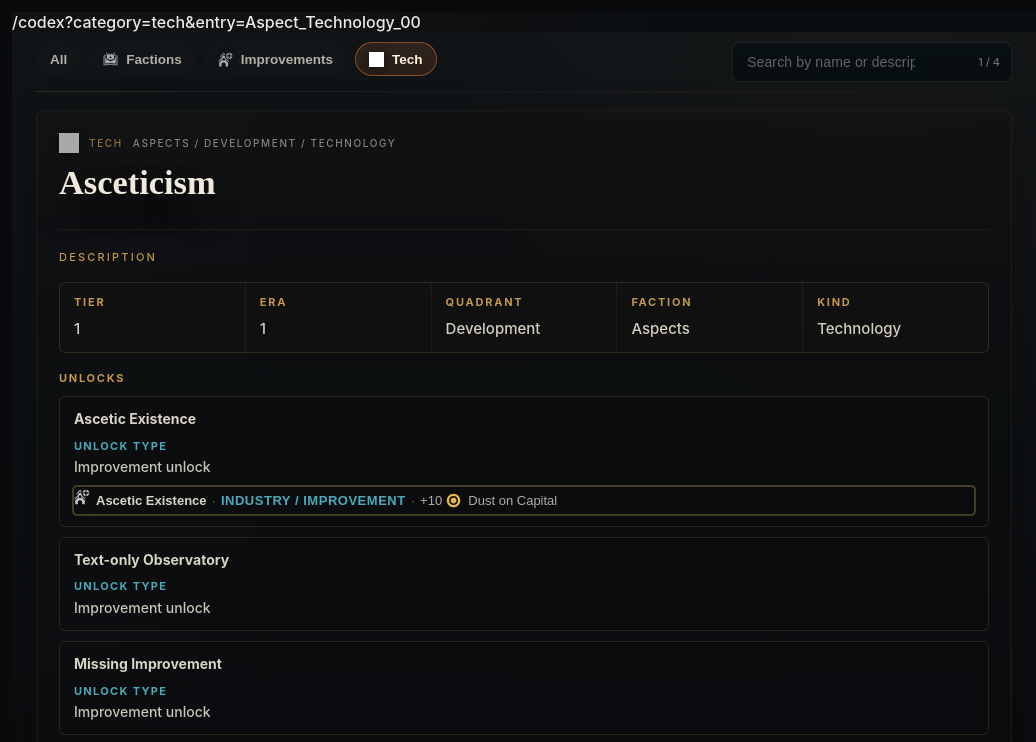
Test: CodexPage rich planning enrichment › previews exact Tech unlock targets while keeping unresolved unlocks plain and Related Entries available
expect the heading "Asceticism" is shown: met, box [59, 163, 216, 201]
expect the heading "Text-only Observatory" is shown: met, box [74, 550, 229, 568]
Click the button with aria-label "Ascetic Existence Industry / Improvement +10 Dust on Capital": (524,500) [74, 487, 974, 514]
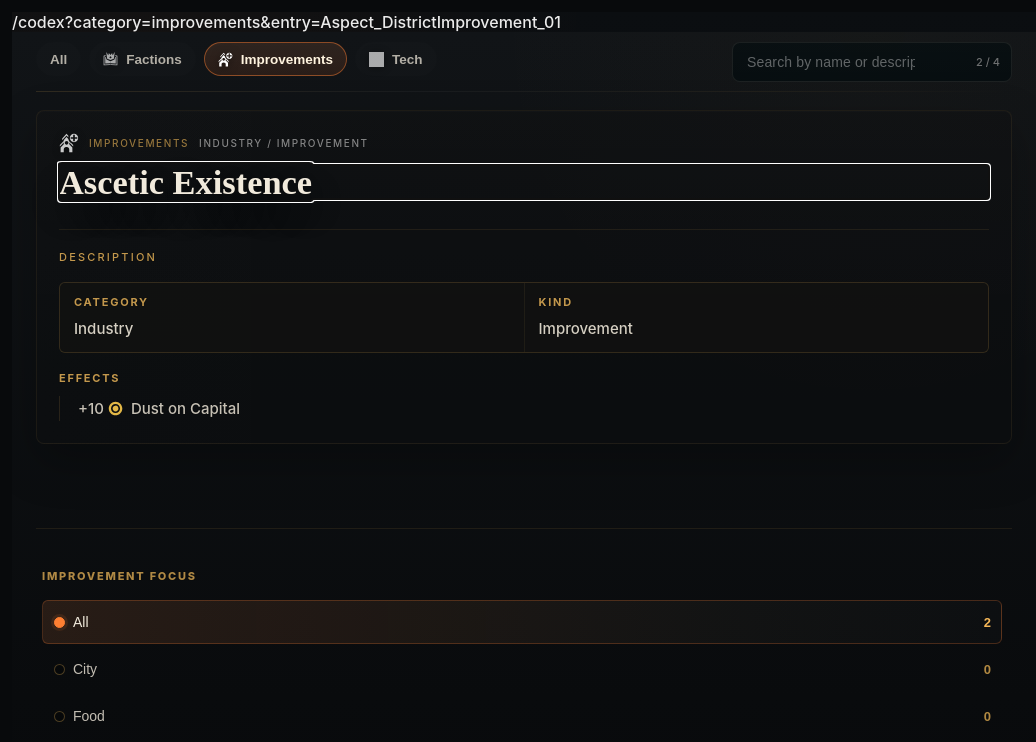
expect the heading "Ascetic Existence" is shown: met, box [59, 163, 312, 201]
expect the text with test id "location-probe" reads "/codex?category=improvements&entry=Aspect_DistrictImprovement_01": met, box [12, 12, 561, 32]
